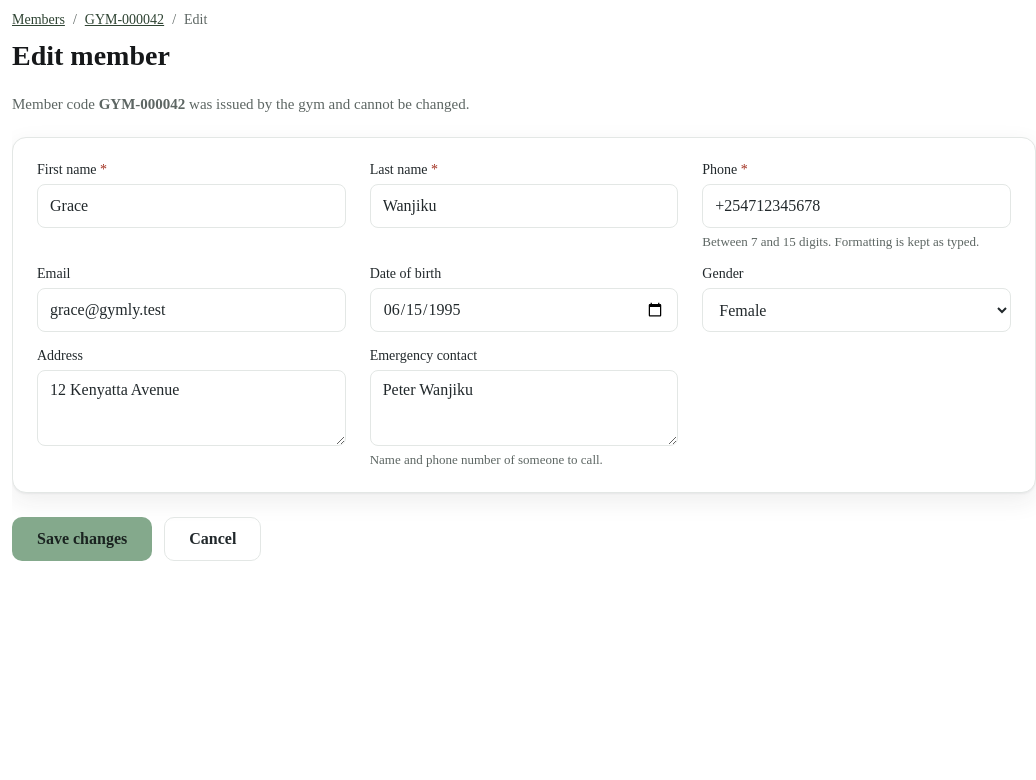
editing a member › explains a duplicate phone rather than saving
Expected: the field showing "Grace" is shown, [37, 184, 346, 228]
Replace the text in the field labelled "Phone *" with "+254722000111" at (857, 206), box [702, 184, 1011, 228]
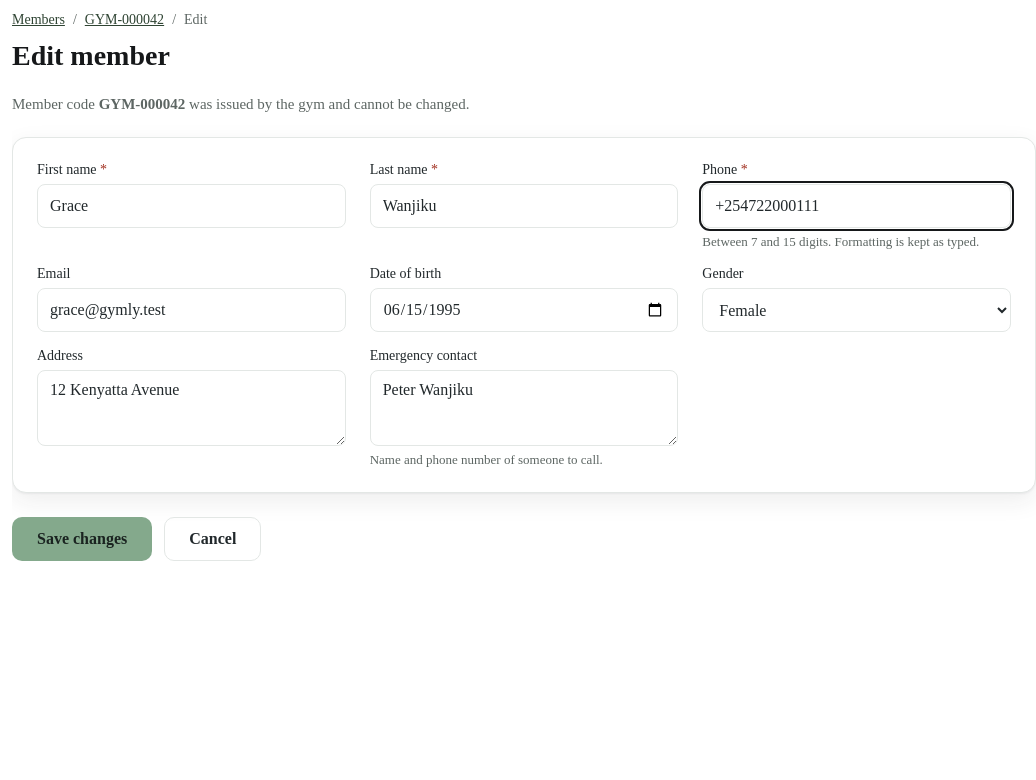
Click the button "Save changes" at (82, 539), box [12, 517, 152, 561]
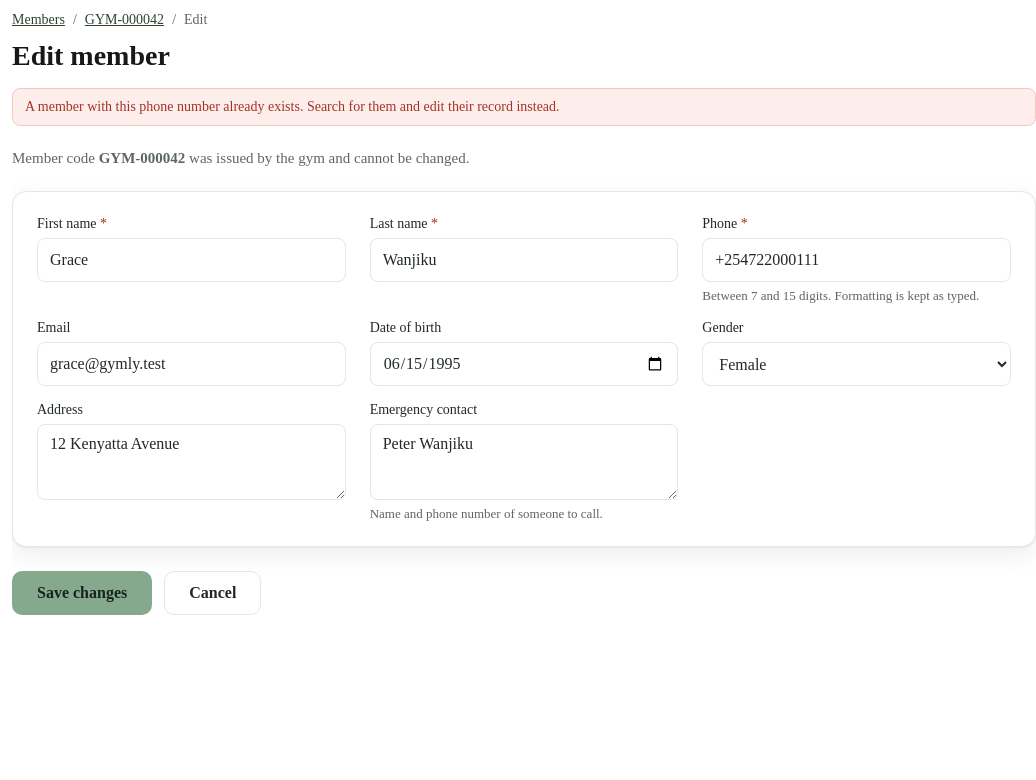
Now the text "A member with this phone number already exists. Search for them and edit their record instead." is shown, box [25, 99, 560, 114]
